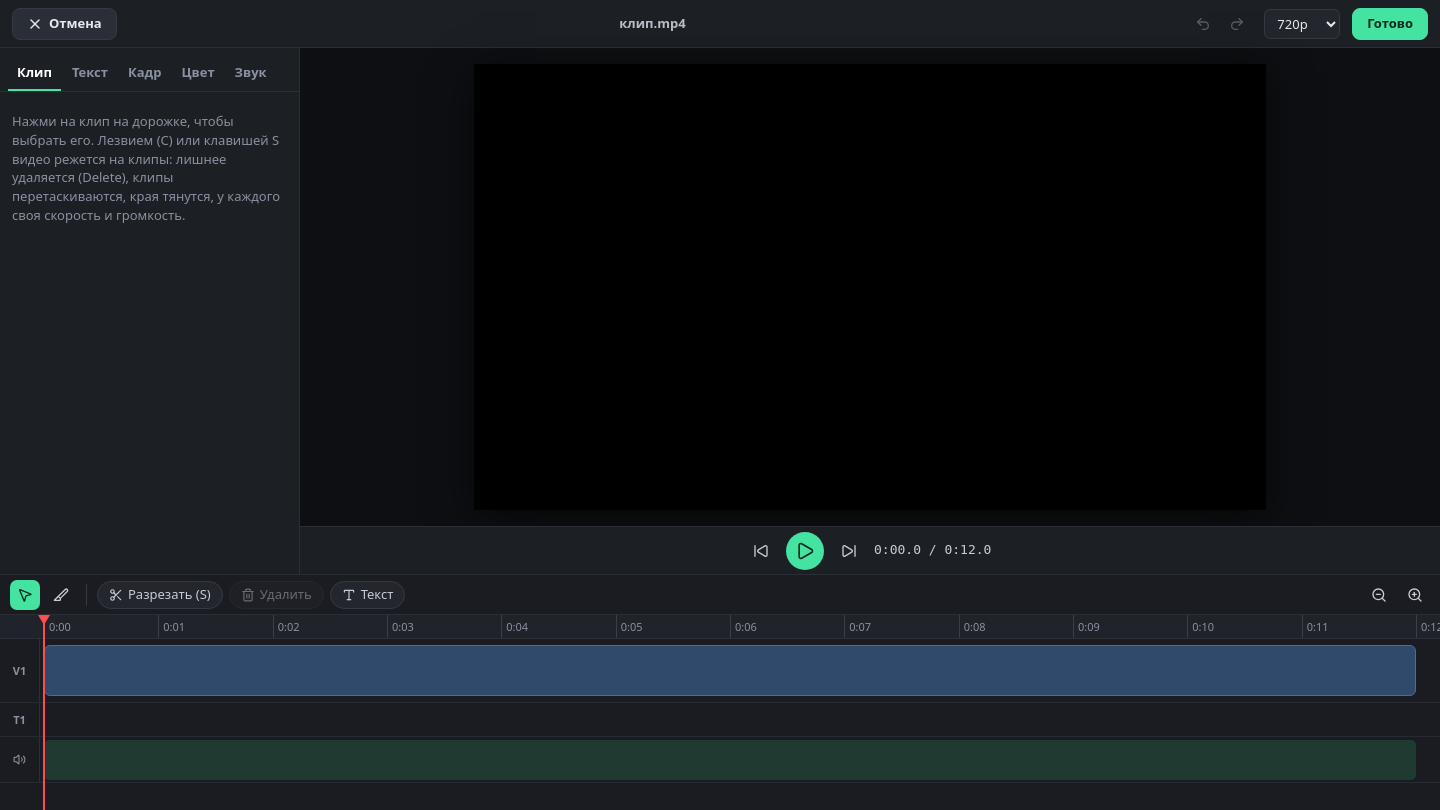
the video editor › changes the frame's shape and the colour, and has the blade
Click the tab "Кадр".
click(145, 73)  # box [119, 56, 170, 91]
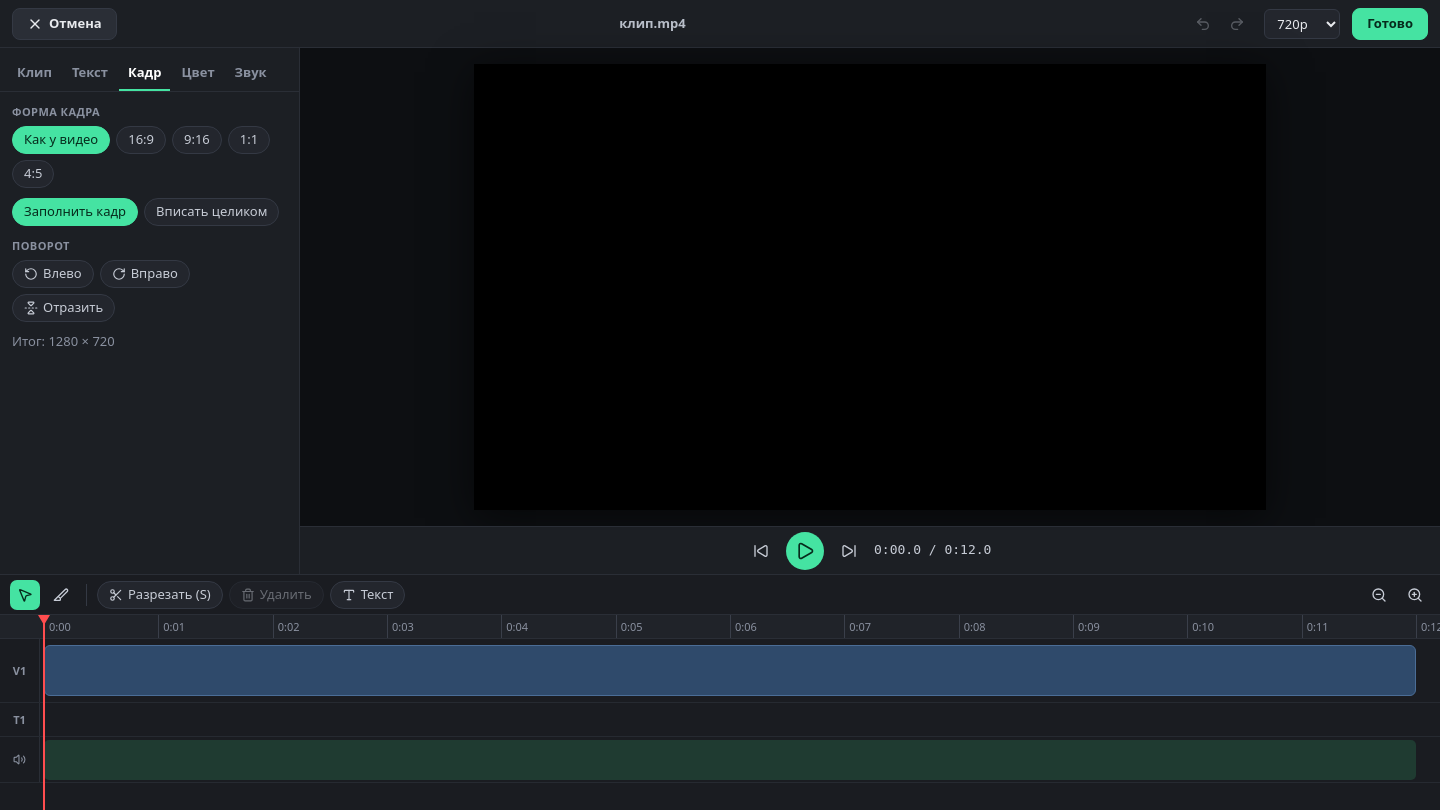
Click the button "9:16".
click(197, 140)  # box [172, 126, 222, 154]
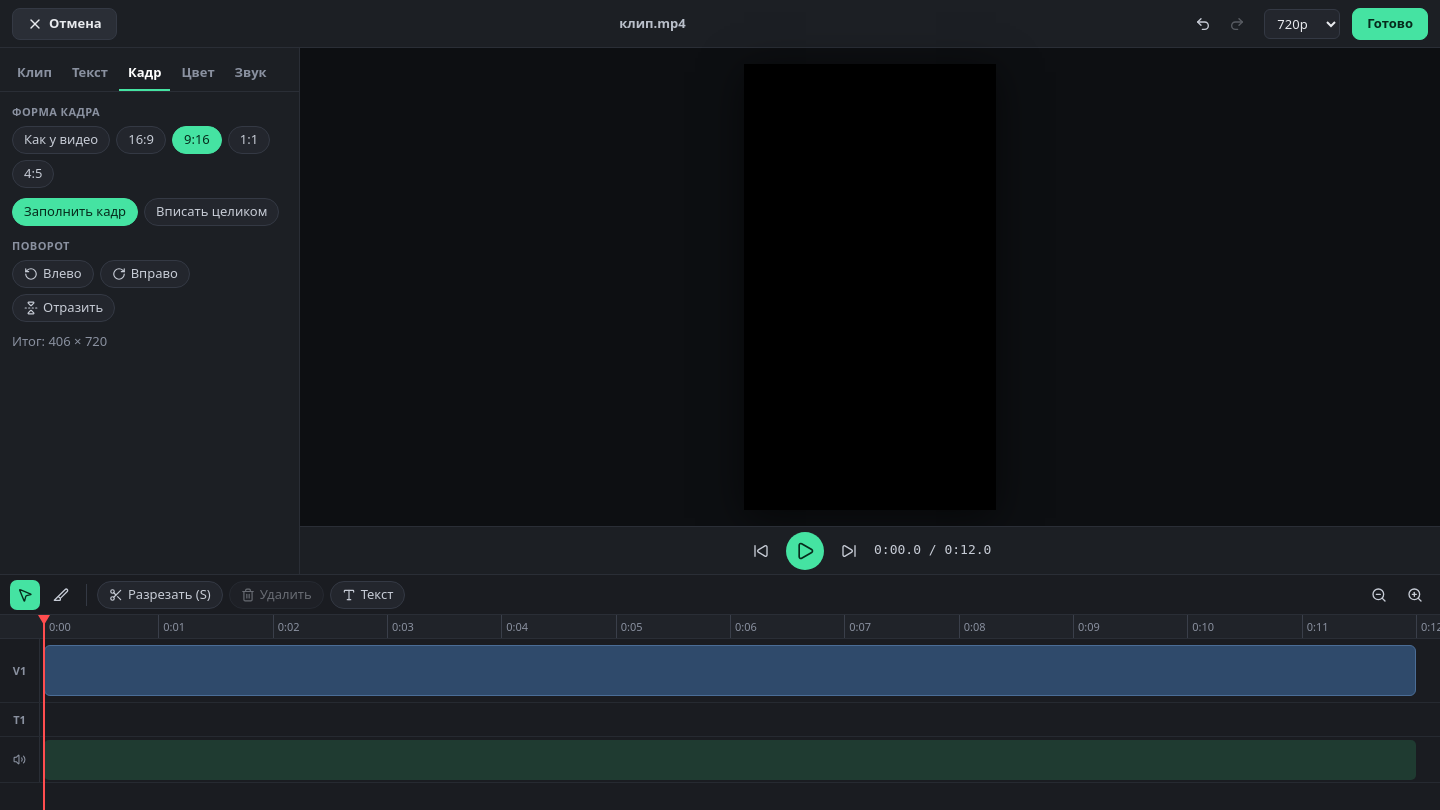
Expected: the text "Итог: 406 × 720" is shown, [12, 332, 107, 350]
Click the tab "Цвет".
click(198, 73)  # box [172, 56, 224, 91]
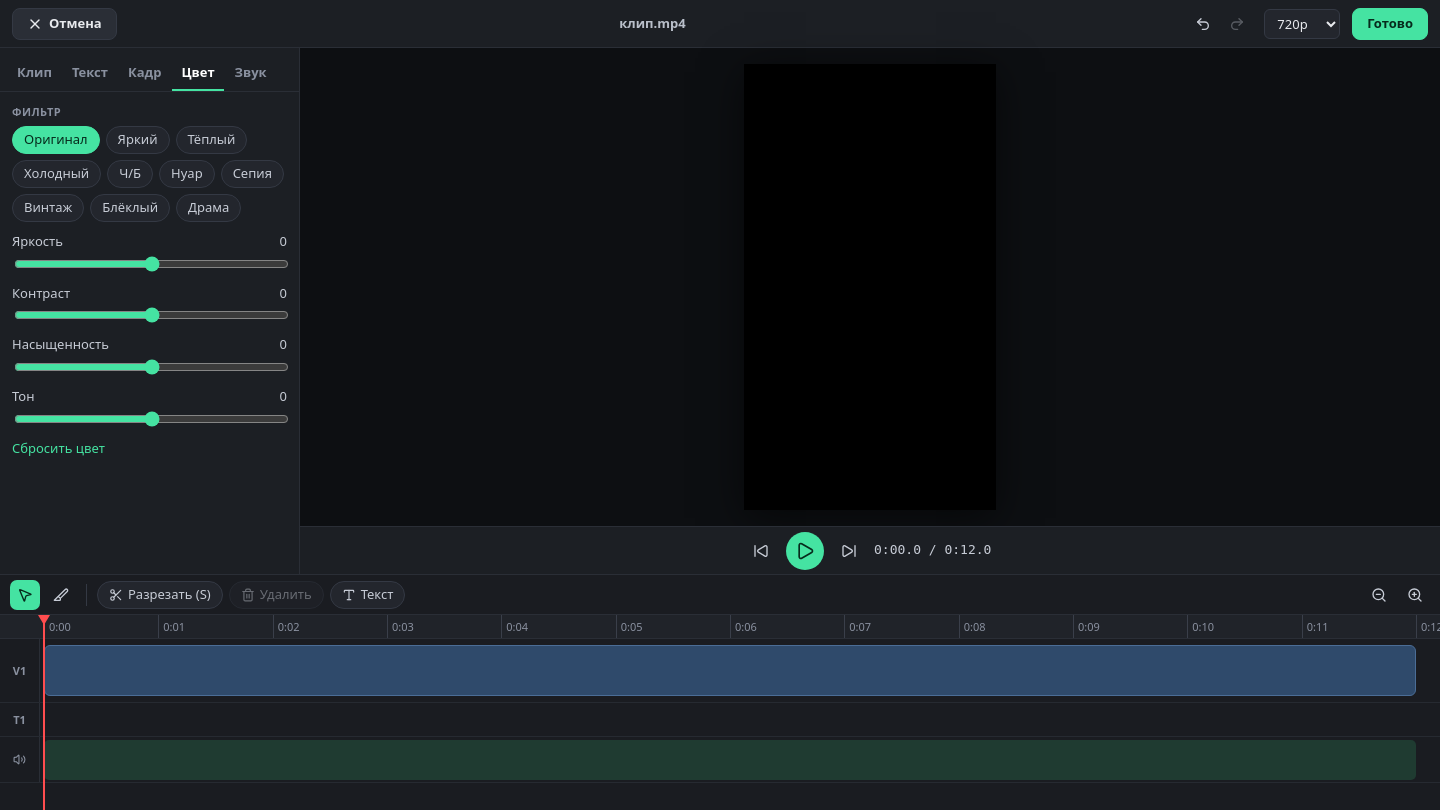
Click the button "Ч/Б".
click(130, 174)  # box [107, 160, 153, 188]
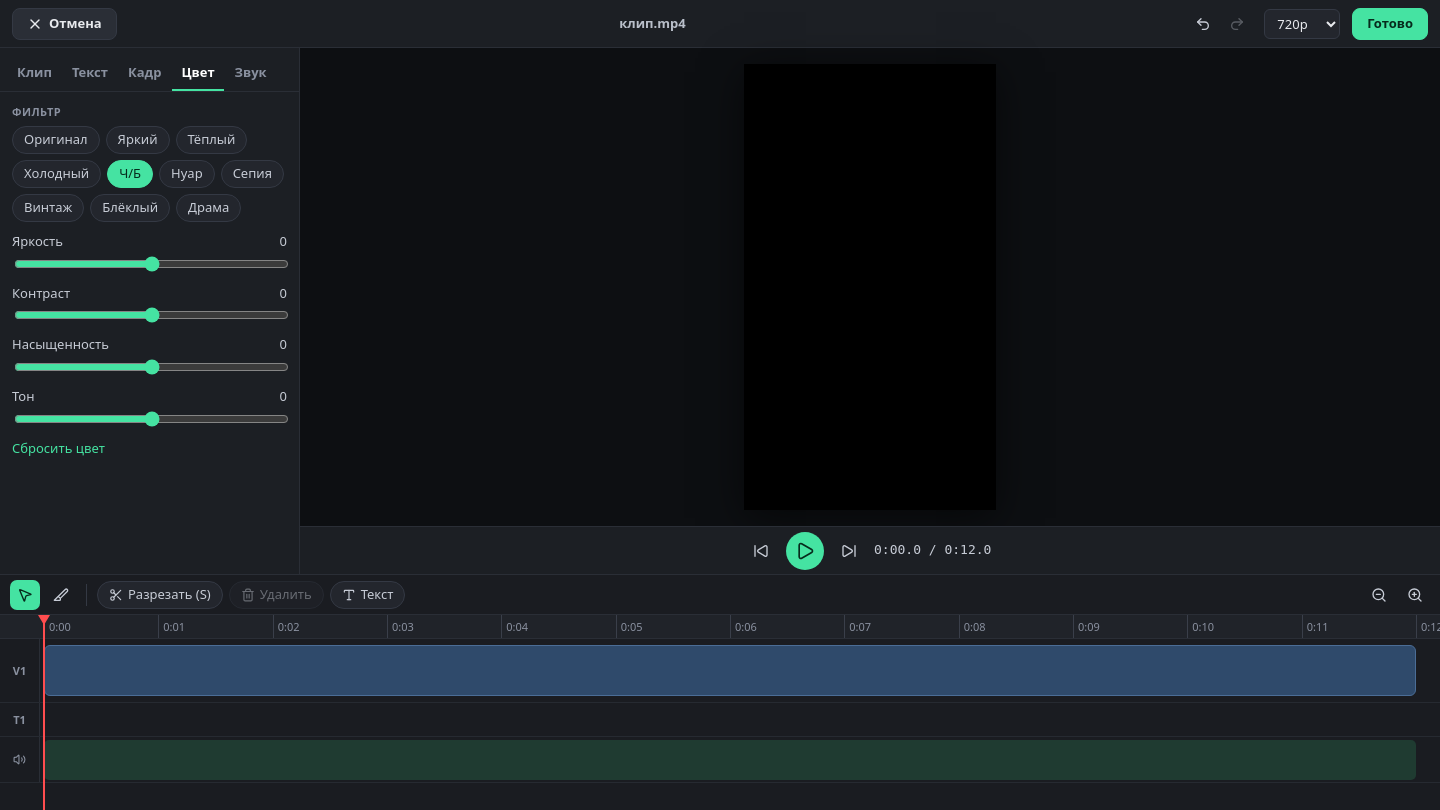
Expected: the button "Ч/Б" is pressed, [107, 160, 153, 188]
Press c
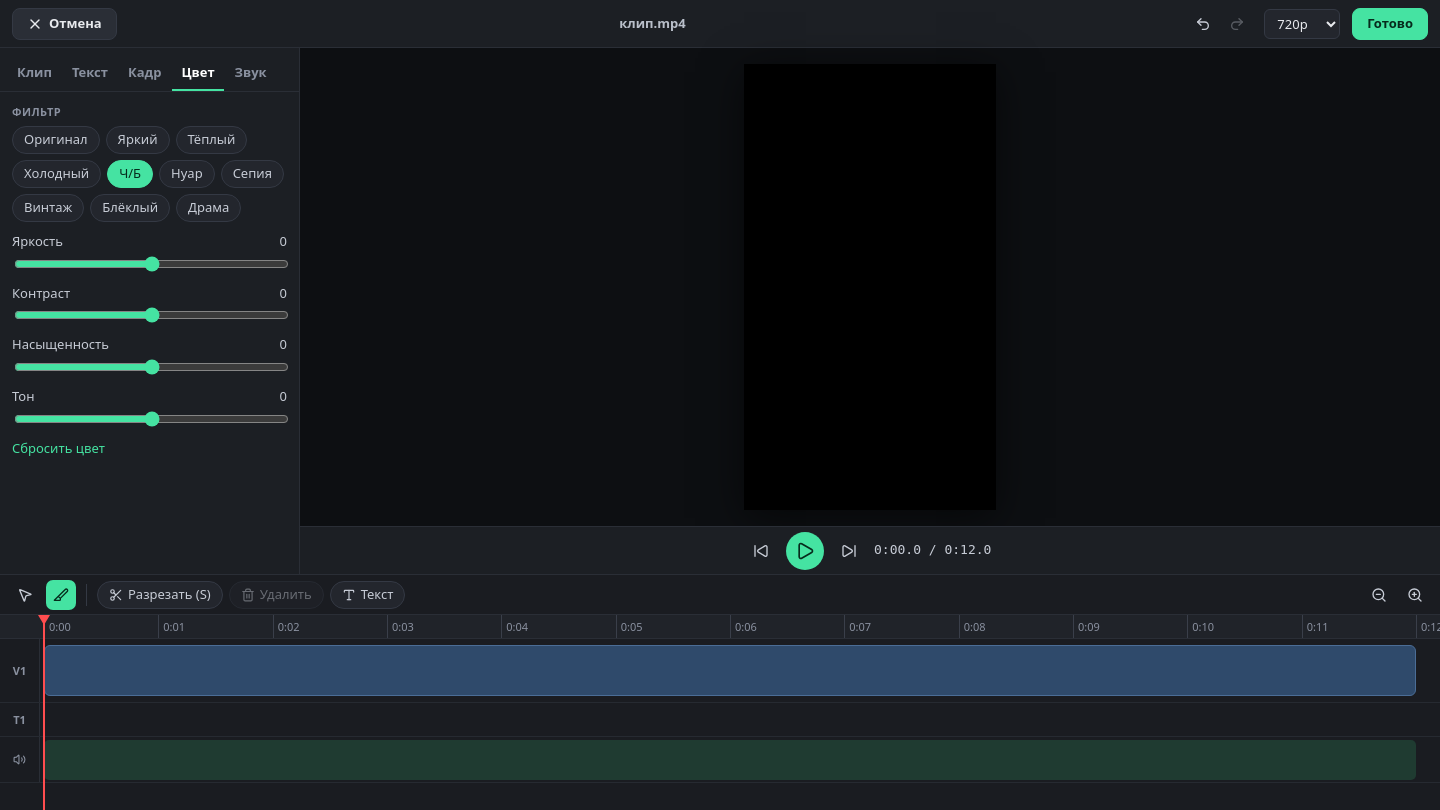
Expected: the button named "Лезвие" is pressed, [46, 580, 76, 610]
